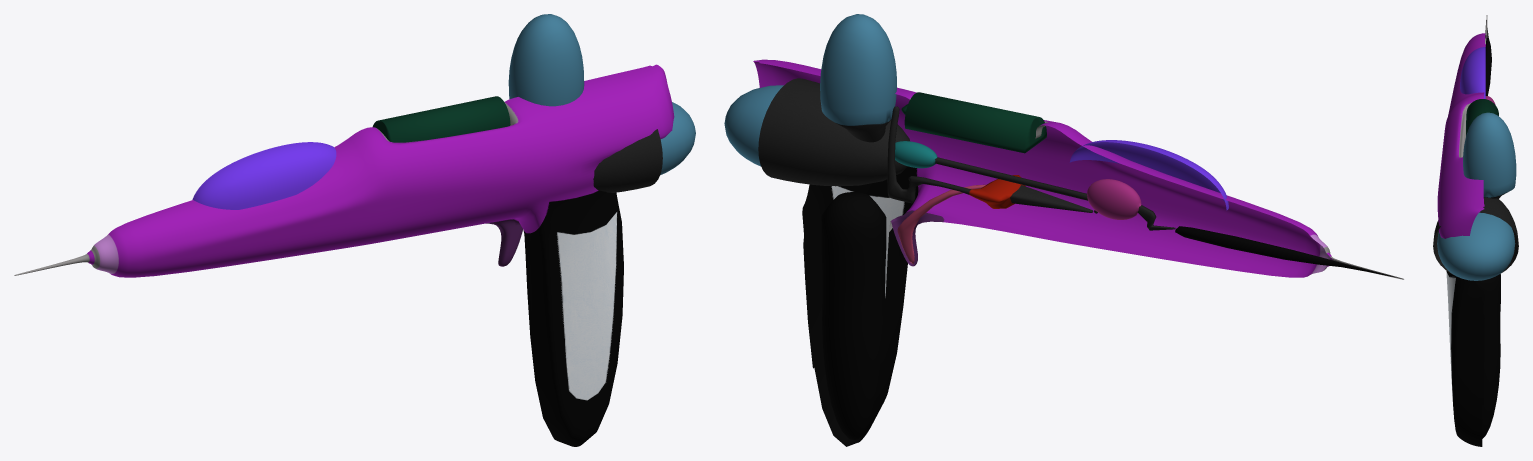
Rendered from Pistola lista.fbx.
3 views of the same model, side by side, from view 1: azimuth 30°, elevation 25°; view 2: azimuth 150°, elevation 25°; view 3: azimuth 270°, elevation 25° (orthographic). The views are drawn at different scales.
Parts seen in each view (by area): view 1: Cube, Cube.009, Cube.004, Cube.001, Sphere.001, Cube.008, Cube.002; view 2: Cube.008, Sphere.002, Sphere.001, Cube.004, Cube.001, Cube, Cube.006, Cube.002, Cube.007, Sphere.003, Cube.010, Cube.003 (+1 smaller); view 3: Cube, Cube.002, Cube.004, Sphere.002, Cube.009, Sphere.001, Cube.008, Cube.001, Cube.003.
Boxes of the visible parts, bbox=[...] form: Cube: bbox=[14, 65, 674, 446]; Cube.009: bbox=[193, 142, 336, 209]; Cube.004: bbox=[508, 14, 584, 106]; Cube.001: bbox=[372, 96, 510, 142]; Sphere.001: bbox=[593, 129, 662, 192]; Cube.008: bbox=[14, 64, 656, 437]; Cube.002: bbox=[660, 102, 695, 174]; Cube.008: bbox=[753, 61, 1403, 446]; Sphere.002: bbox=[821, 192, 886, 439]; Sphere.001: bbox=[758, 78, 909, 186]; Cube.004: bbox=[820, 14, 896, 142]; Cube.001: bbox=[901, 92, 1046, 153]; Cube: bbox=[753, 59, 1403, 441]; Cube.006: bbox=[887, 106, 1093, 212]; Cube.002: bbox=[724, 85, 783, 166]; Cube.007: bbox=[1069, 141, 1227, 210]; Sphere.003: bbox=[1087, 179, 1175, 230]; Cube.010: bbox=[895, 141, 1087, 200]; Cube.003: bbox=[1175, 226, 1395, 277]; Cube: bbox=[1437, 15, 1486, 446]; Cube.002: bbox=[1437, 212, 1515, 280]; Cube.004: bbox=[1463, 112, 1516, 198]; Sphere.002: bbox=[1475, 274, 1500, 438]; Cube.009: bbox=[1460, 47, 1484, 98]; Sphere.001: bbox=[1433, 197, 1518, 274]; Cube.008: bbox=[1457, 15, 1487, 446]; Cube.001: bbox=[1466, 99, 1498, 135]; Cube.003: bbox=[1485, 28, 1491, 95].
Bounding box in the file's own units: 1207 × 742 × 177.
